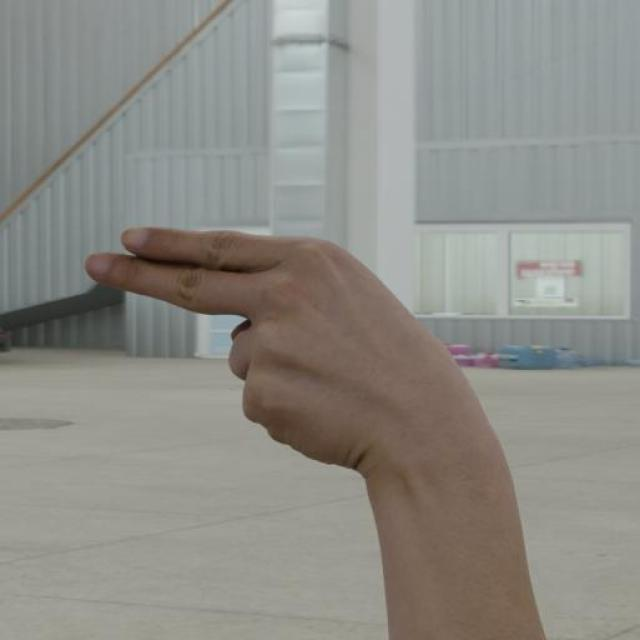H: (76, 223, 493, 471)
